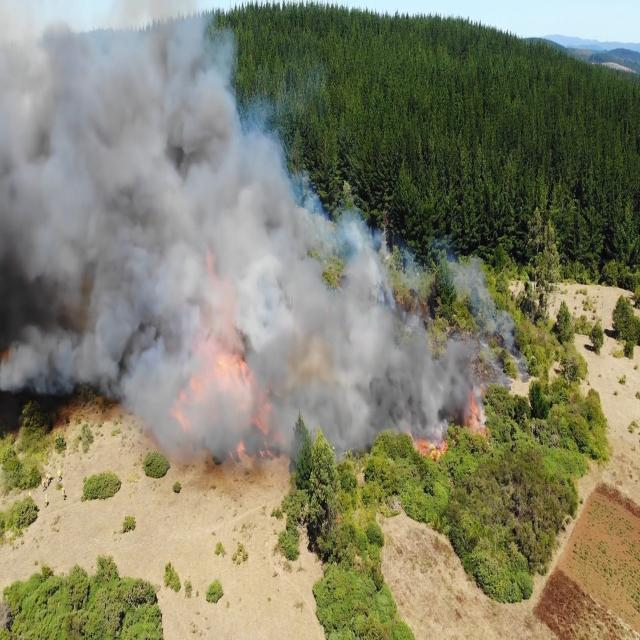Fire: (214, 350, 272, 430), (414, 429, 454, 466), (463, 394, 493, 442)
Smoke: (0, 19, 260, 466), (262, 138, 508, 462)
